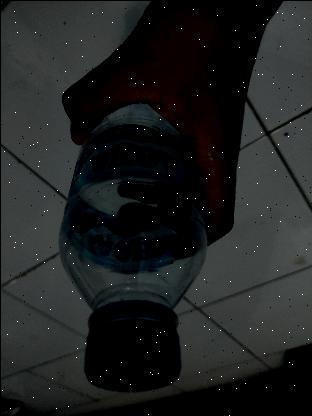Plastic Bottle: (53, 26, 217, 393)
